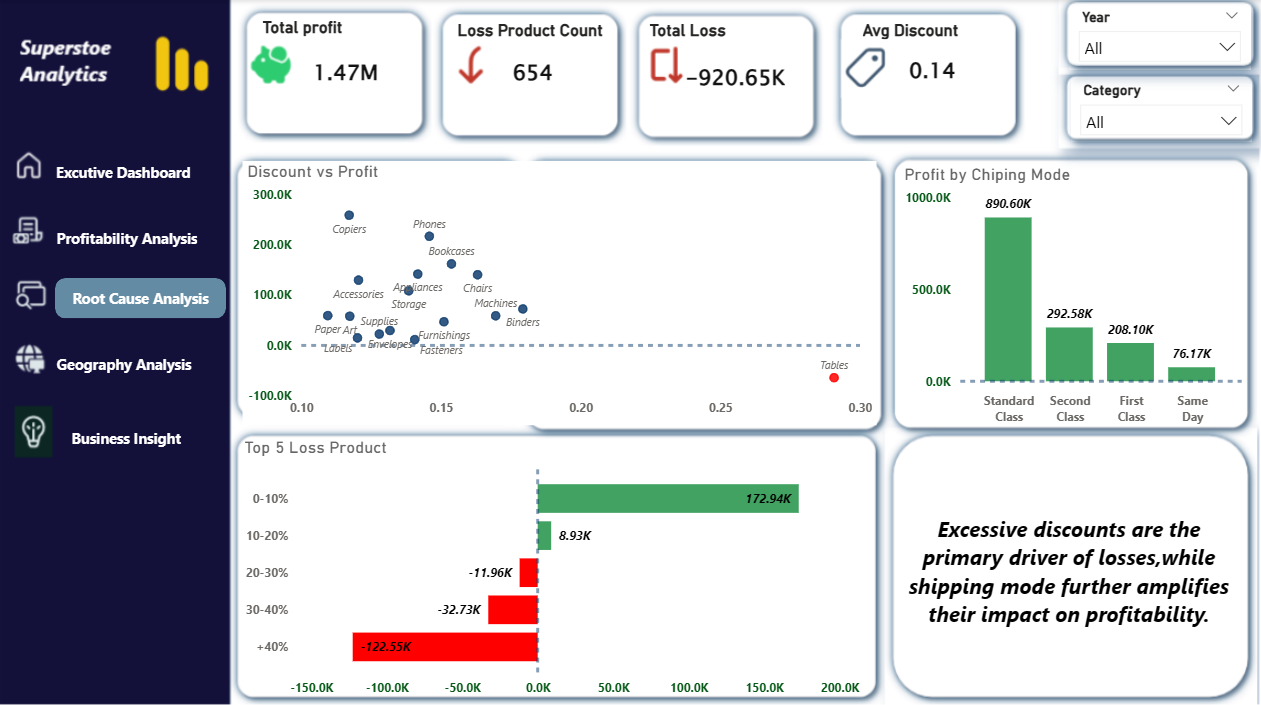

The dashboard page shown, as its layout file describes it:
{"tool":"powerbi","page":{"name":"Root Cause Analysis","canvas":[1280,720],"ordinal":2},"visuals":[{"type":"shape","box":[19.7,151.4,213.5,46.9],"z":0},{"type":"shape","box":[57.5,281.6,172.6,40.9],"z":1000},{"type":"shape","box":[24.2,345.2,205.9,46.9],"z":2000},{"type":"shape","box":[24.2,420.9,210.5,45.4],"z":3000},{"type":"shape","box":[31.8,218,196.8,46.9],"z":4000},{"type":"scatterChart","title":"Discount vs Profit","fields":{"Category":["Dim_product.Sub-Category"],"X":["Avg(Fact_sales.Discount)"],"Y":["Sum(Fact_sales.Profit)"]},"box":[246.7,163.3,640,266.7],"z":5000},{"type":"cardVisual","title":"Total profit","fields":{"Data":["measuress.total profit"]},"box":[262,18.2,178.7,92.4],"z":6000},{"type":"slicer","fields":{"Values":["Date.Year"]},"box":[1081.7,5,183.3,66.7],"z":7000},{"type":"slicer","fields":{"Values":["Dim_product.Category"]},"box":[1083.3,78.3,183.3,65],"z":8000},{"type":"cardVisual","title":"Total Loss","fields":{"Data":["measuress.Total Loss"]},"box":[652.6,21.2,184.7,96.9],"z":9000},{"type":"cardVisual","title":"Avg Discount","fields":{"Data":["Avg(Fact_sales.Discount)"]},"box":[868.3,21.7,151.7,81.7],"z":10000},{"type":"cardVisual","title":"Loss Product Count","fields":{"Data":["measuress.loss product count"]},"box":[458.8,21.2,162,86.3],"z":11000},{"type":"columnChart","title":"Profit by Chiping Mode","fields":{"Category":["Fact_sales.Ship Mode"],"Y":["Sum(Fact_sales.Profit)"]},"box":[910,166.7,350,270],"z":12000},{"type":"clusteredBarChart","title":"Top 5 Loss Product","fields":{"Y":["Sum(Fact_sales.Profit)"],"Category":["Fact_sales.Discount Rangr"]},"box":[243.8,442.1,640.5,271],"z":13000},{"type":"shape","box":[905.5,448.2,351.3,257.4],"z":14000}]}

Visuals, with their boxes in screenshot pixels (x1, y1, x2, y2), scaled from the page's 1280x720 canvas onto the 1261x705 screenshot:
shape: bbox=[19, 148, 230, 194]
shape: bbox=[57, 276, 227, 316]
shape: bbox=[24, 338, 227, 384]
shape: bbox=[24, 412, 231, 457]
shape: bbox=[31, 213, 225, 259]
"Discount vs Profit" scatterChart: bbox=[243, 160, 874, 421]
"Total profit" cardVisual: bbox=[258, 18, 434, 108]
slicer - Date.Year: bbox=[1066, 5, 1246, 70]
slicer - Dim_product.Category: bbox=[1067, 77, 1248, 140]
"Total Loss" cardVisual: bbox=[643, 21, 825, 116]
"Avg Discount" cardVisual: bbox=[855, 21, 1005, 101]
"Loss Product Count" cardVisual: bbox=[452, 21, 612, 105]
"Profit by Chiping Mode" columnChart: bbox=[896, 163, 1241, 428]
"Top 5 Loss Product" clusteredBarChart: bbox=[240, 433, 871, 698]
shape: bbox=[892, 439, 1238, 691]
